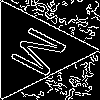M: (8, 25, 78, 84)
